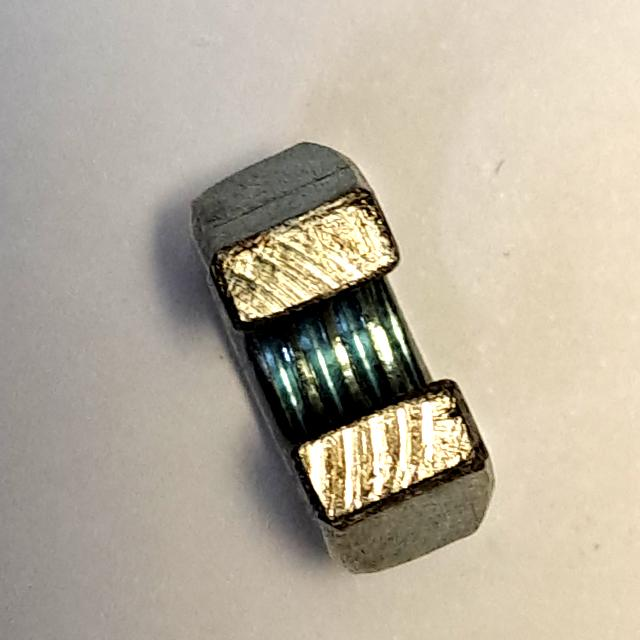Side-Fracture: (177, 119, 517, 606)
